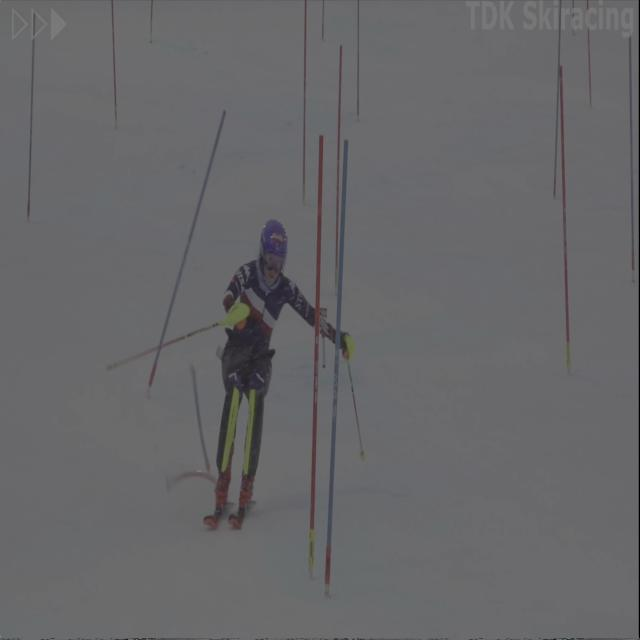gate: (134, 99, 230, 404), (324, 137, 352, 610), (555, 70, 580, 380), (306, 119, 322, 577), (618, 33, 639, 301), (292, 0, 312, 212), (26, 7, 42, 254), (330, 34, 344, 300), (104, 0, 125, 131), (349, 0, 366, 124), (579, 0, 596, 122)
